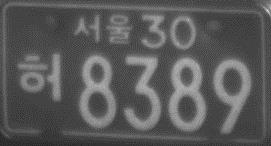0: (169, 15, 197, 50)
3: (121, 54, 162, 133), (139, 11, 167, 49)
8: (77, 54, 119, 128), (167, 57, 208, 131)
9: (212, 56, 252, 135)
서울_O: (72, 11, 132, 46)
허: (17, 52, 63, 103)
